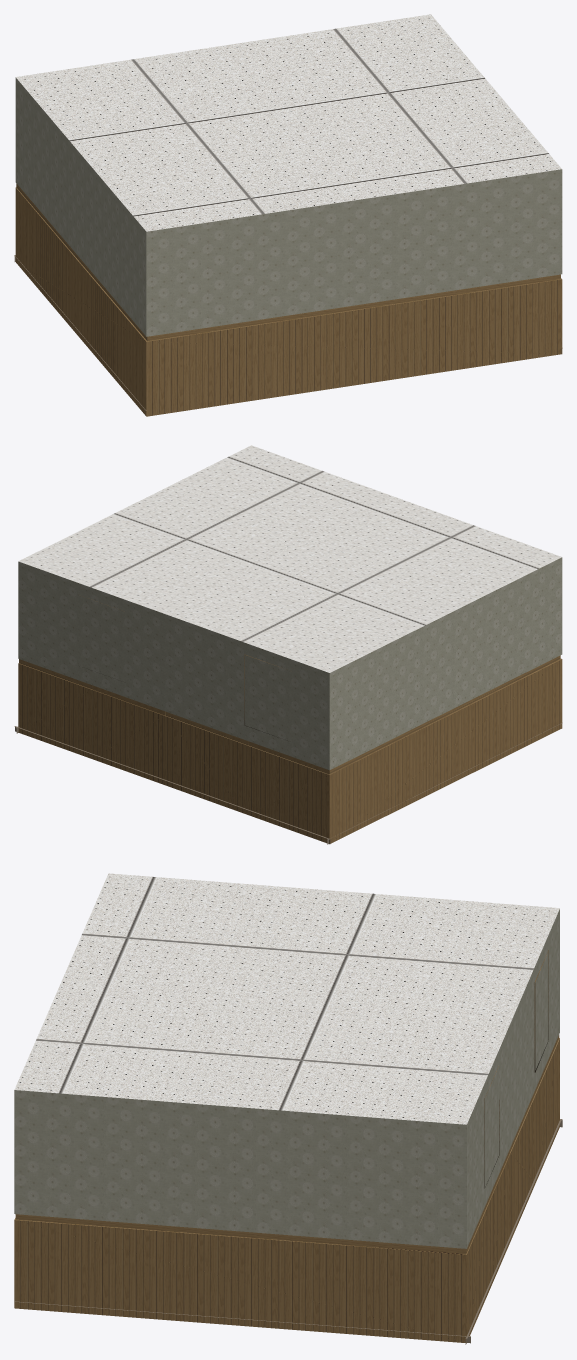
The model's file is EnvRestaurant01.fbx.
3 views of the same model, one above another, from view 1: azimuth 30°, elevation 25°; view 2: azimuth 150°, elevation 25°; view 3: azimuth 270°, elevation 25° (orthographic). The views are drawn at different scales.
Visible parts, largest first — view 1: Wall, WallBack; view 2: Wall, BaseBoard; view 3: Wall, BaseBoard.
Boxes of the visible parts, x1,y1,x2,y2 form: Wall: (15,14,561,415); WallBack: (146,169,562,416); Wall: (18,445,562,843); BaseBoard: (14,723,562,844); Wall: (14,873,559,1342); BaseBoard: (14,1119,562,1344).
Bounding box in the file's own units: 604 × 242 × 551.
